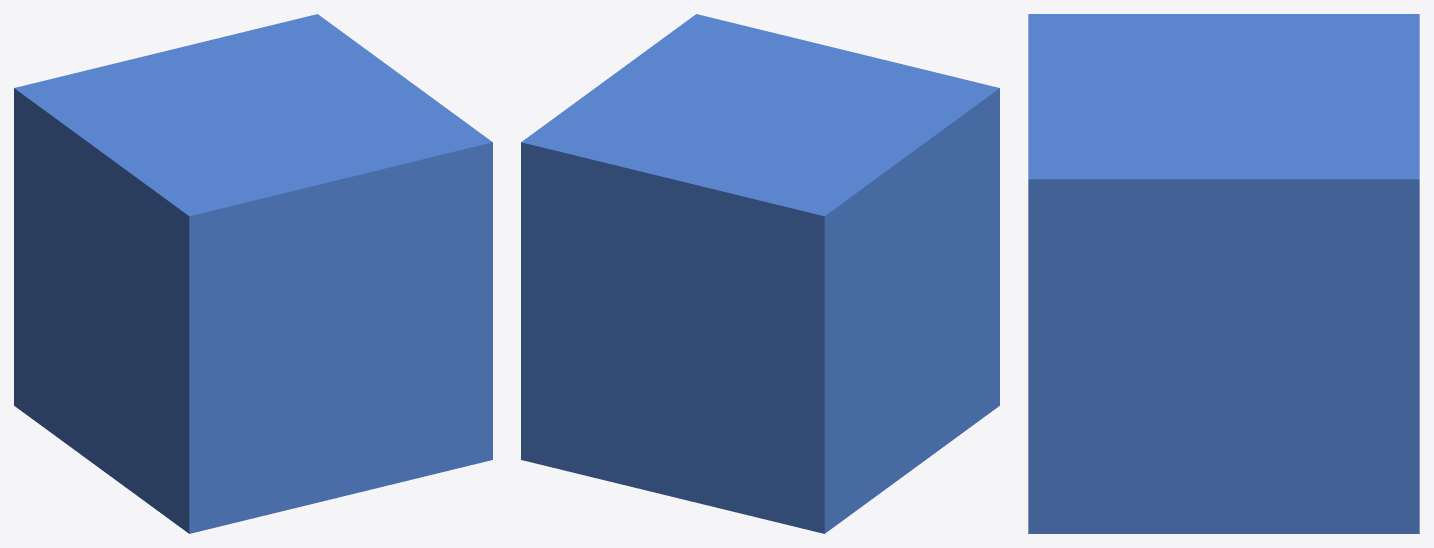
Rendered from Cube_Blendshape_test2.glb.
The picture shows the model from 3 angles, left to right: view 1: azimuth 30°, elevation 25°; view 2: azimuth 150°, elevation 25°; view 3: azimuth 270°, elevation 25°; orthographic projection. The views are drawn at different scales.
Parts seen in each view (by area): view 1: Cube; view 2: Cube; view 3: Cube.
Boxes of the visible parts, x1,y1,x2,y2 form: Cube: (14,14,492,533); Cube: (521,14,999,533); Cube: (1028,14,1419,533).
Bounding box in the file's own units: 2 × 2 × 2.
